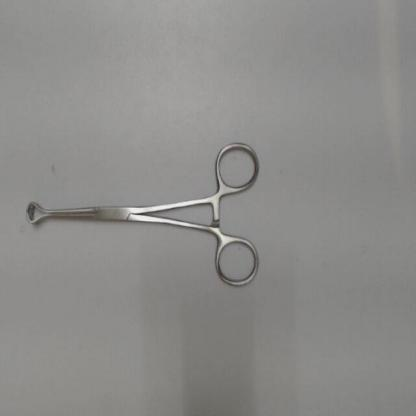Babcock Tissue Forceps: (20, 135, 262, 290)
